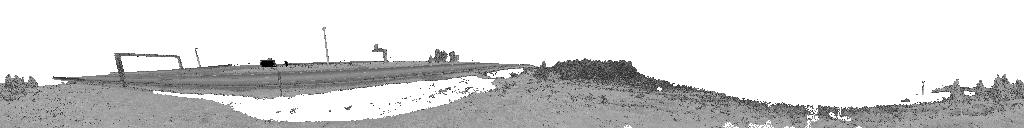gantry_sign_pole: (114, 53, 183, 81), (371, 44, 389, 61)
light_pole: (322, 27, 329, 61), (194, 48, 200, 66)
traffic_pole: (260, 58, 275, 66), (284, 61, 289, 66)
